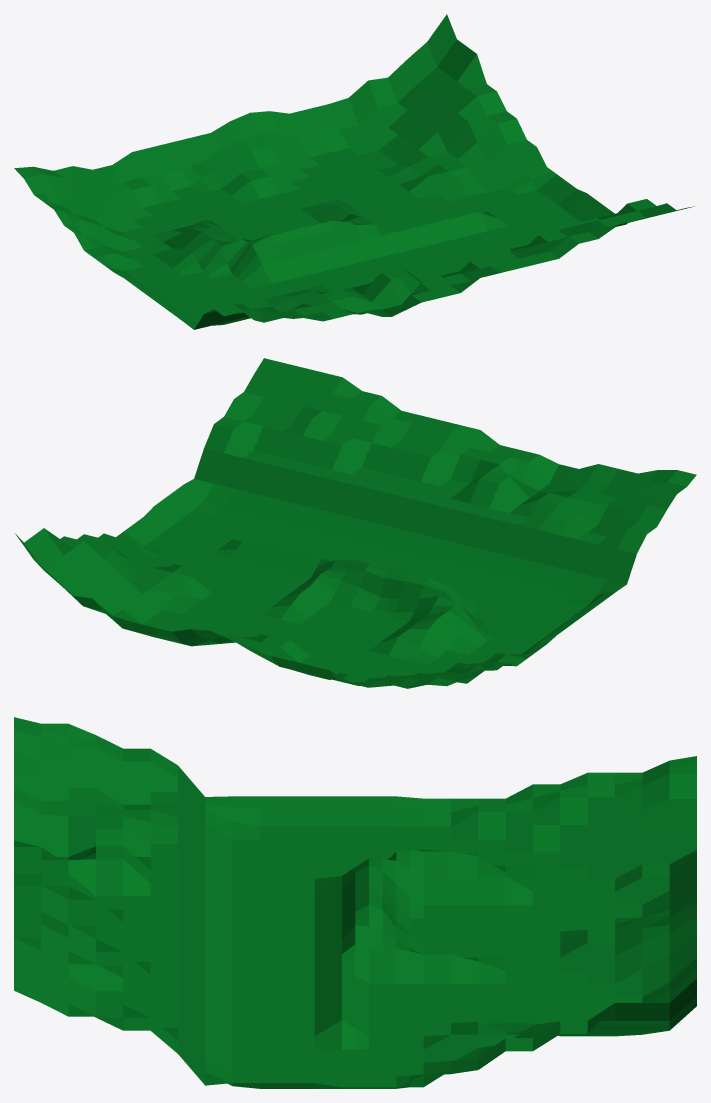
File: tempat ke 2.fbx
3 views of the same model, one above another, from view 1: azimuth 30°, elevation 25°; view 2: azimuth 150°, elevation 25°; view 3: azimuth 270°, elevation 25° (orthographic). The views are drawn at different scales.
Visible parts, largest first — view 1: Tempat ke 2; view 2: Tempat ke 2; view 3: Tempat ke 2.
Boxes of the visible parts, x1,y1,x2,y2 form: Tempat ke 2: (14, 14, 694, 329); Tempat ke 2: (15, 358, 696, 688); Tempat ke 2: (14, 717, 696, 1088).
Size of the model in its own units: 431 by 86.25 by 431.
Materials: 1 (1 with a texture image).
